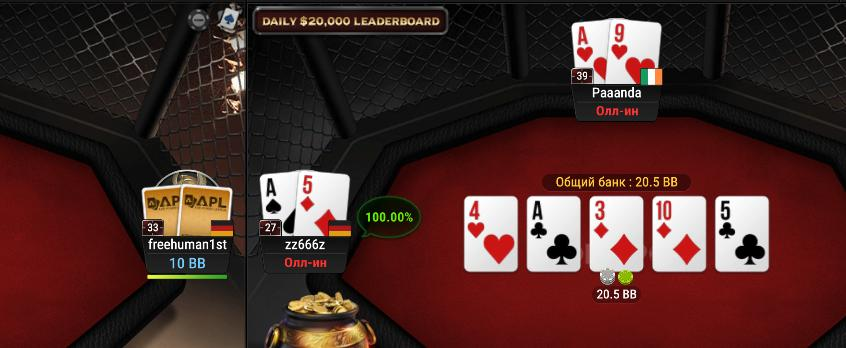10d: (652, 196, 705, 273)
3d: (589, 197, 642, 272)
4h: (464, 197, 518, 271)
5c: (716, 198, 769, 271)
5d: (297, 173, 349, 234)
9h: (608, 19, 661, 83)
Ac: (527, 197, 581, 272)
Ah: (571, 22, 609, 86)
As: (258, 174, 297, 235)
